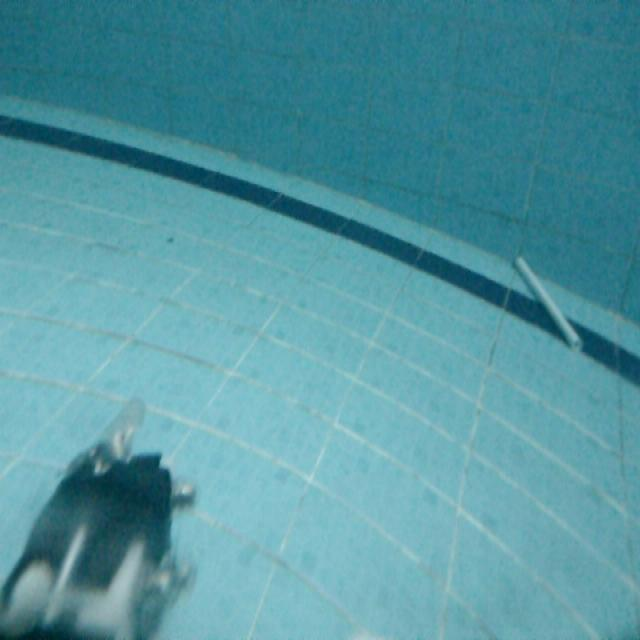Cube: (515, 254, 590, 355)
